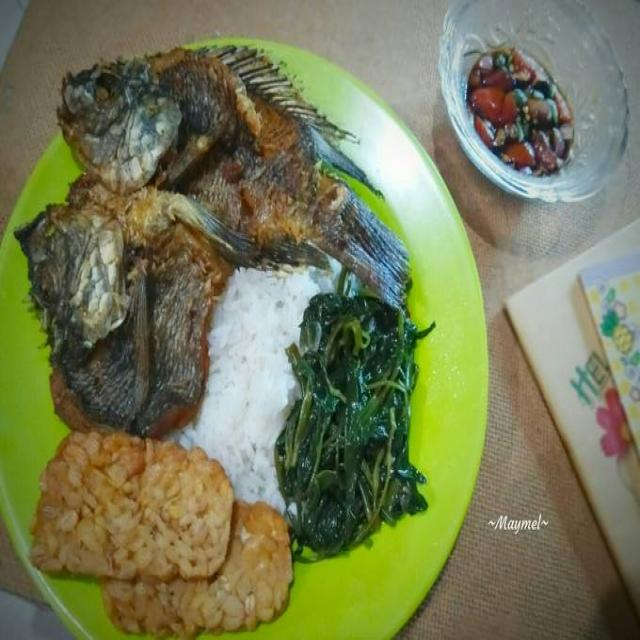ikan goreng: (54, 48, 419, 306), (18, 189, 237, 441)
kangkung: (277, 284, 426, 558)
